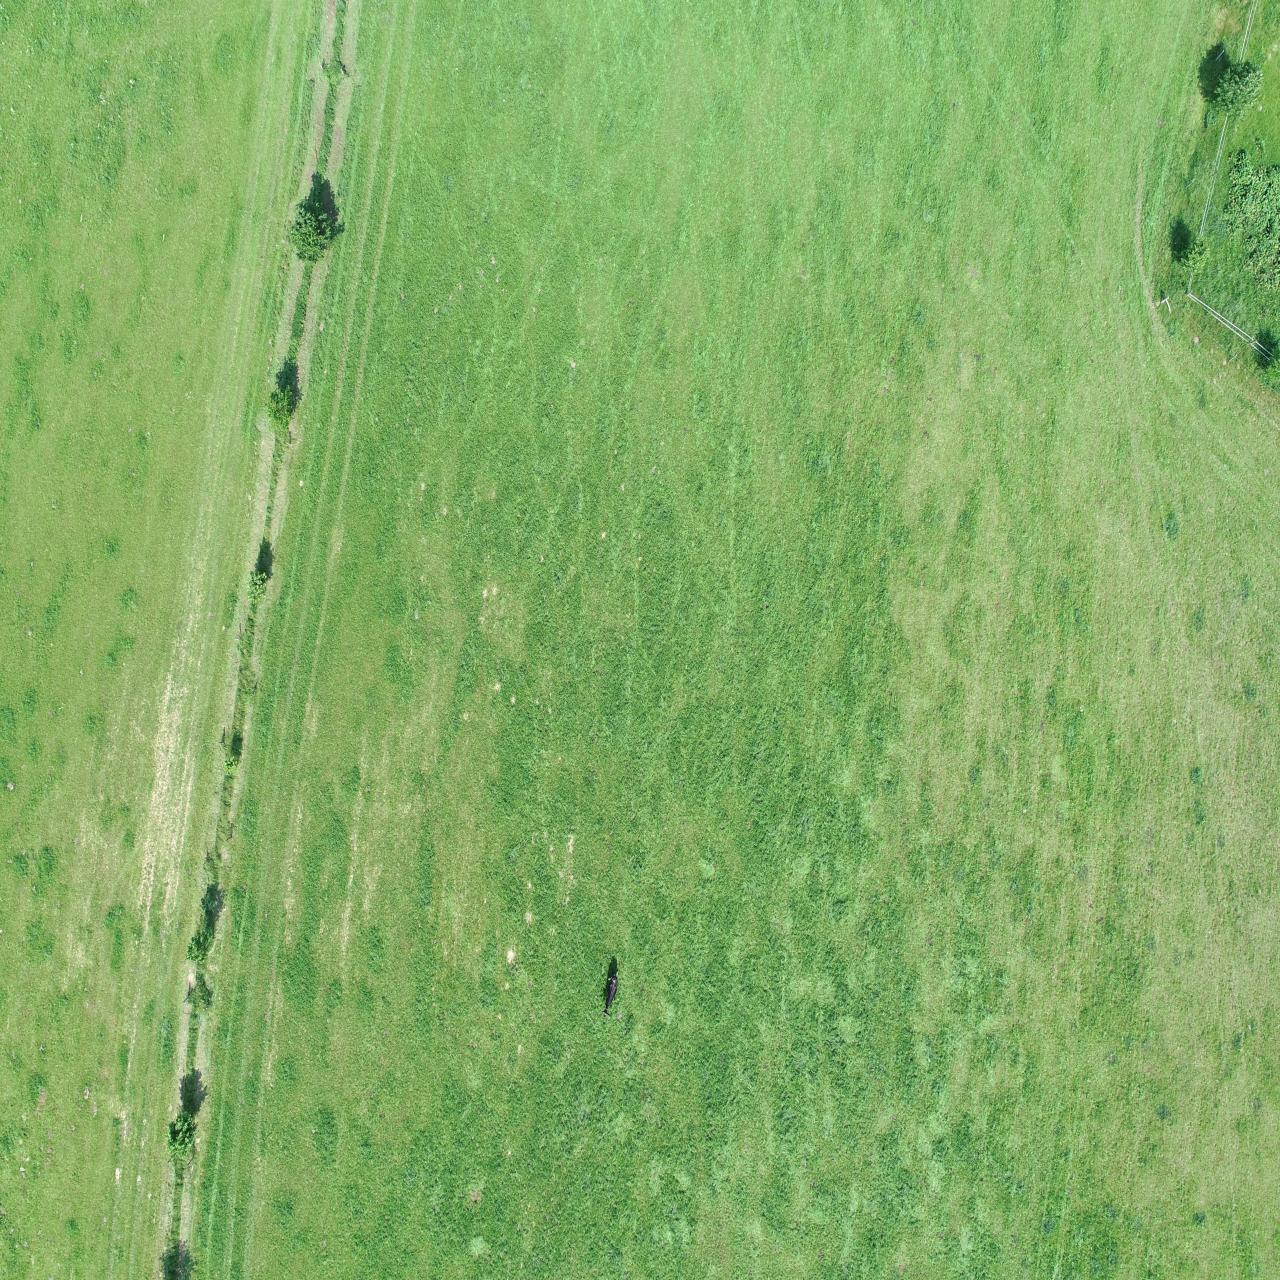cow: (600, 967, 620, 1020)
